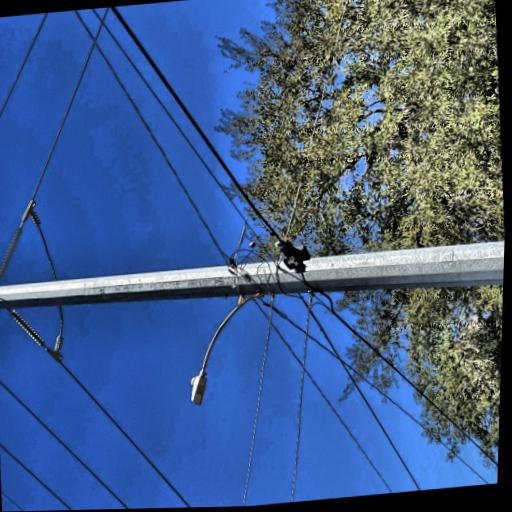pole: (25, 7, 132, 511)
street light: (0, 334, 88, 431)
